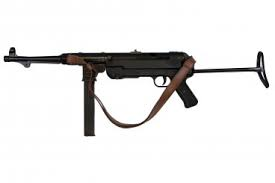Arma Real: (3, 45, 269, 137)
